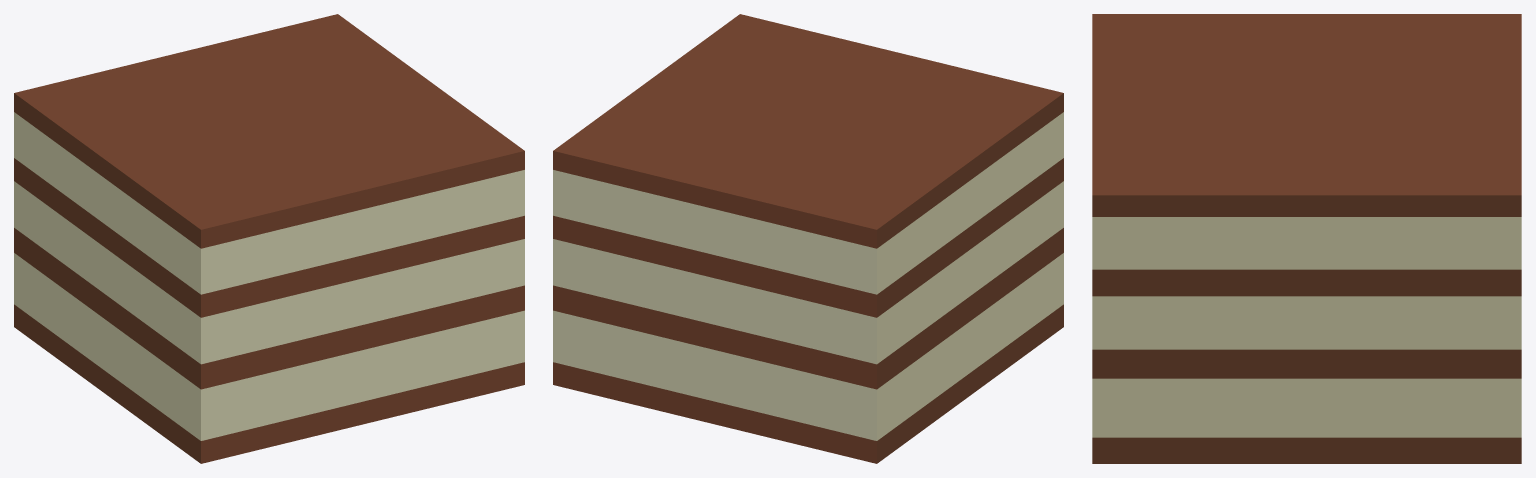
Rendered from Cake1.glb.
3 renders of one model, left to right at view 1: azimuth 30°, elevation 25°; view 2: azimuth 150°, elevation 25°; view 3: azimuth 270°, elevation 25°, orthographic. The views are drawn at different scales.
Visible parts, largest first — view 1: SI_Food_Bakery_Cake_01; view 2: SI_Food_Bakery_Cake_01; view 3: SI_Food_Bakery_Cake_01.
Boxes of the visible parts, box(x1,y1,x2,y2) form: SI_Food_Bakery_Cake_01: box(14, 14, 524, 463); SI_Food_Bakery_Cake_01: box(553, 14, 1063, 463); SI_Food_Bakery_Cake_01: box(1092, 14, 1521, 463).
Bounding box in the file's own units: 0.00376 × 0.0026 × 0.00376.
Materials: 1 (1 with a texture image).
